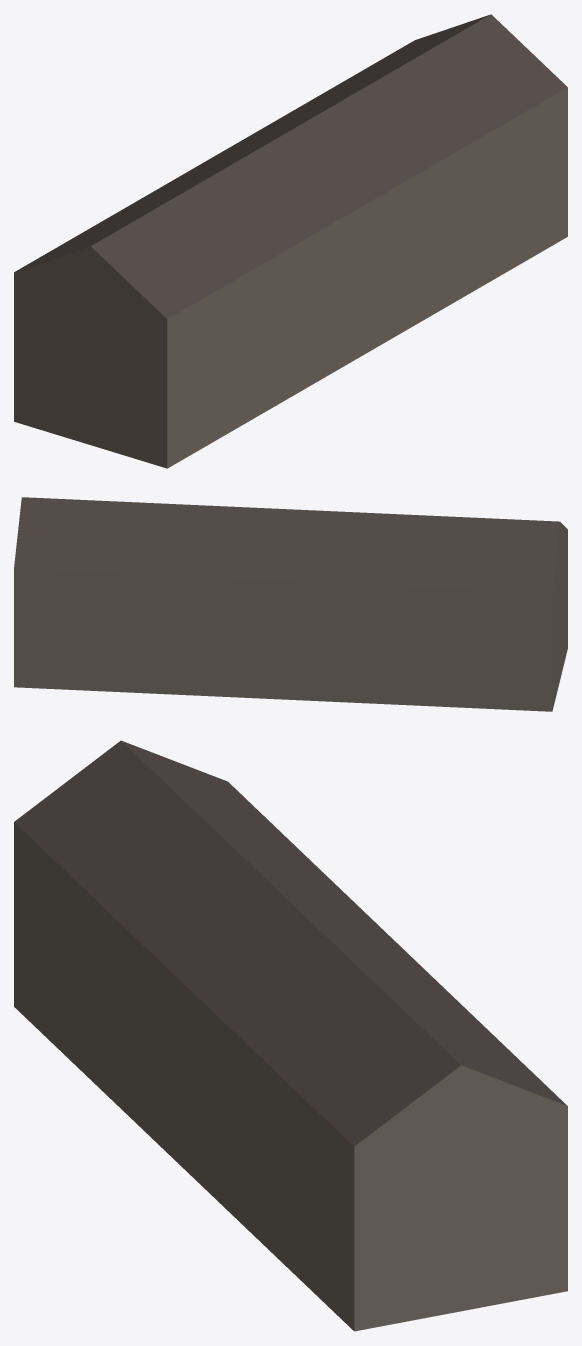
3 views of the same model, one above another, from view 1: azimuth 30°, elevation 25°; view 2: azimuth 150°, elevation 25°; view 3: azimuth 270°, elevation 25° (orthographic). The views are drawn at different scales.
Parts seen in each view (by area): view 1: HP-w776801046; view 2: HP-w776801046; view 3: HP-w776801046.
Boxes of the visible parts, x1,y1,x2,y2 form: HP-w776801046: [14, 14, 567, 468]; HP-w776801046: [14, 497, 567, 711]; HP-w776801046: [14, 740, 567, 1331].
Bounding box in the file's own units: 38.15 × 11.99 × 24.46.
